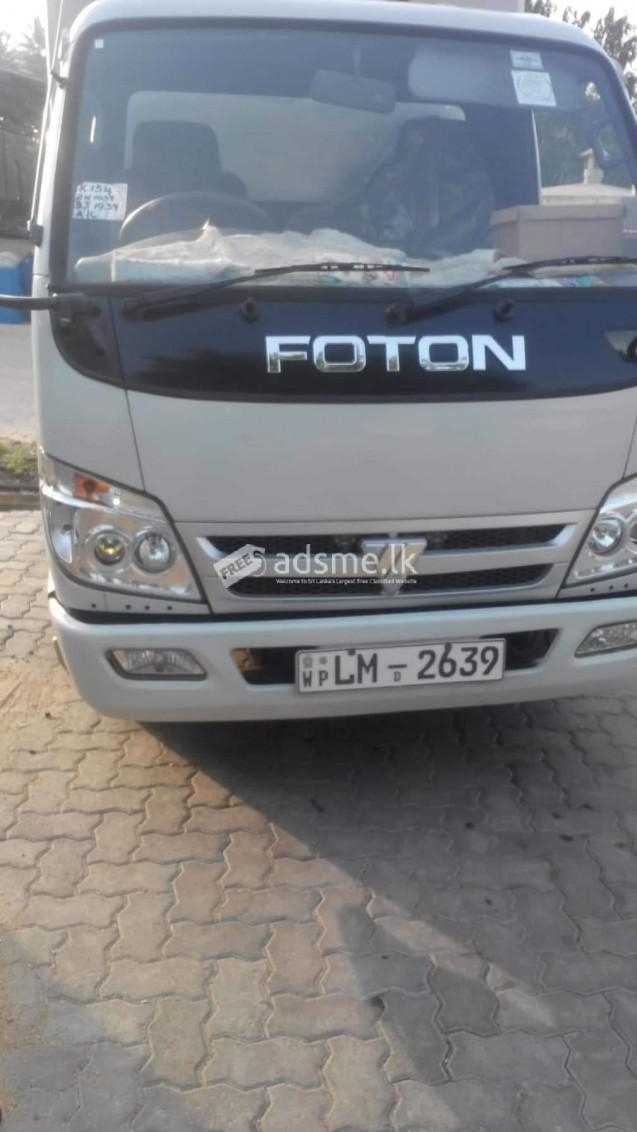truck: (27, 1, 637, 724)
